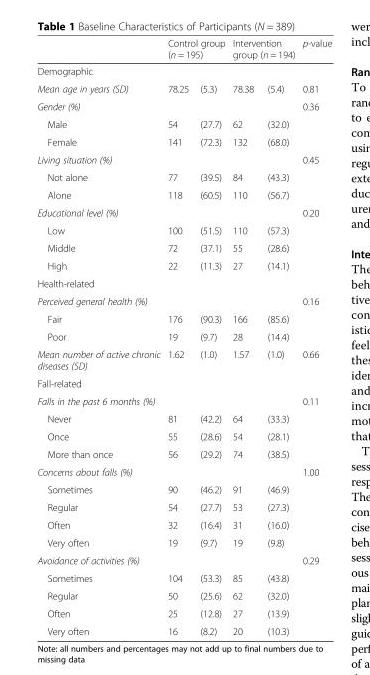table: (36, 37, 331, 636)
table column: (36, 37, 163, 636), (260, 37, 298, 636), (193, 37, 228, 636), (298, 37, 331, 636), (228, 37, 260, 636), (163, 37, 193, 636)
table column header: (36, 37, 331, 79)
table projected row header: (36, 274, 331, 292), (36, 374, 331, 391)
table row: (36, 345, 331, 374), (36, 37, 331, 62), (36, 79, 331, 97), (36, 97, 331, 115), (36, 132, 331, 150), (36, 150, 331, 168), (36, 185, 331, 203), (36, 203, 331, 221), (36, 238, 331, 256), (36, 256, 331, 274), (36, 274, 331, 292), (36, 309, 331, 327), (36, 327, 331, 345), (36, 391, 331, 409), (36, 409, 331, 427), (36, 444, 331, 462), (36, 462, 331, 480), (36, 480, 331, 498), (36, 515, 331, 533), (36, 533, 331, 551), (36, 568, 331, 586), (36, 586, 331, 604), (36, 604, 331, 622), (36, 62, 331, 79), (36, 115, 331, 132), (36, 168, 331, 185), (36, 221, 331, 238), (36, 292, 331, 309), (36, 374, 331, 391), (36, 427, 331, 444), (36, 498, 331, 515), (36, 551, 331, 568), (36, 622, 331, 636)
table spanning cell: (36, 37, 163, 79), (228, 37, 298, 62), (163, 37, 228, 62), (298, 37, 331, 79)
